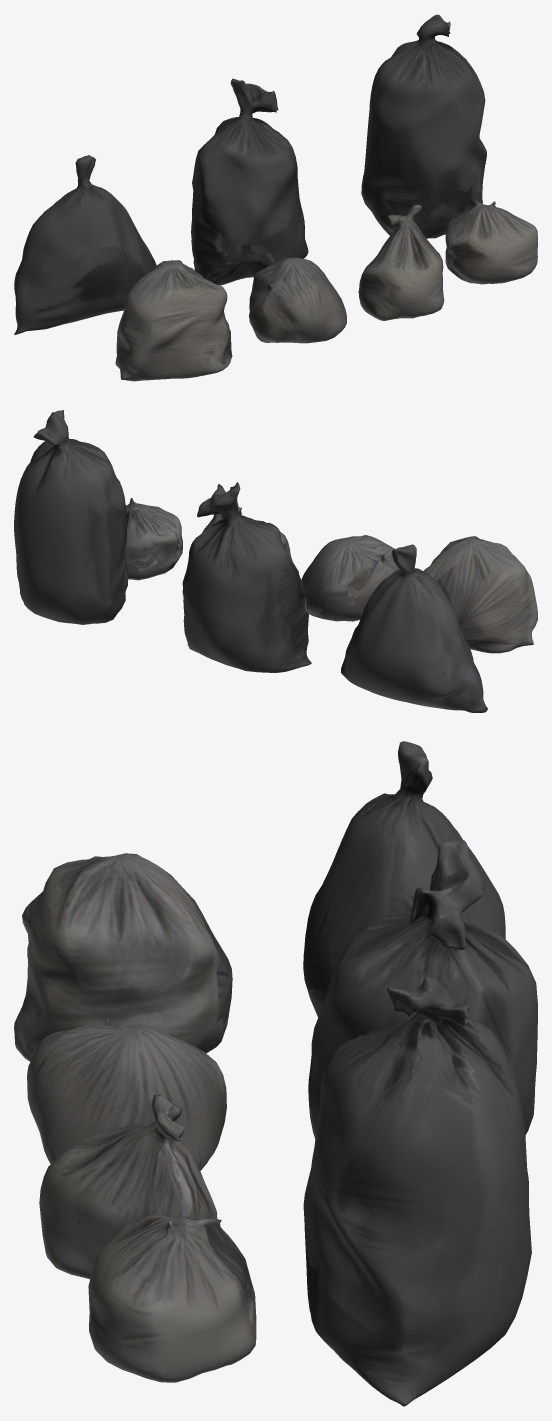
The model's file is Meshy_AI_Trash_Bags_Collection_0102213120_texture.fbx.
3 views of the same model, one above another, from view 1: azimuth 30°, elevation 25°; view 2: azimuth 150°, elevation 25°; view 3: azimuth 270°, elevation 25° (orthographic). The views are drawn at different scales.
Parts seen in each view (by area): view 1: Mesh0; view 2: Mesh0; view 3: Mesh0.
Boxes of the visible parts, x1,y1,x2,y2 form: Mesh0: (14, 14, 537, 381); Mesh0: (14, 410, 537, 712); Mesh0: (14, 741, 537, 1406).
Size of the model in its own units: 191 by 81.32 by 97.
1 material, 1 textured.
